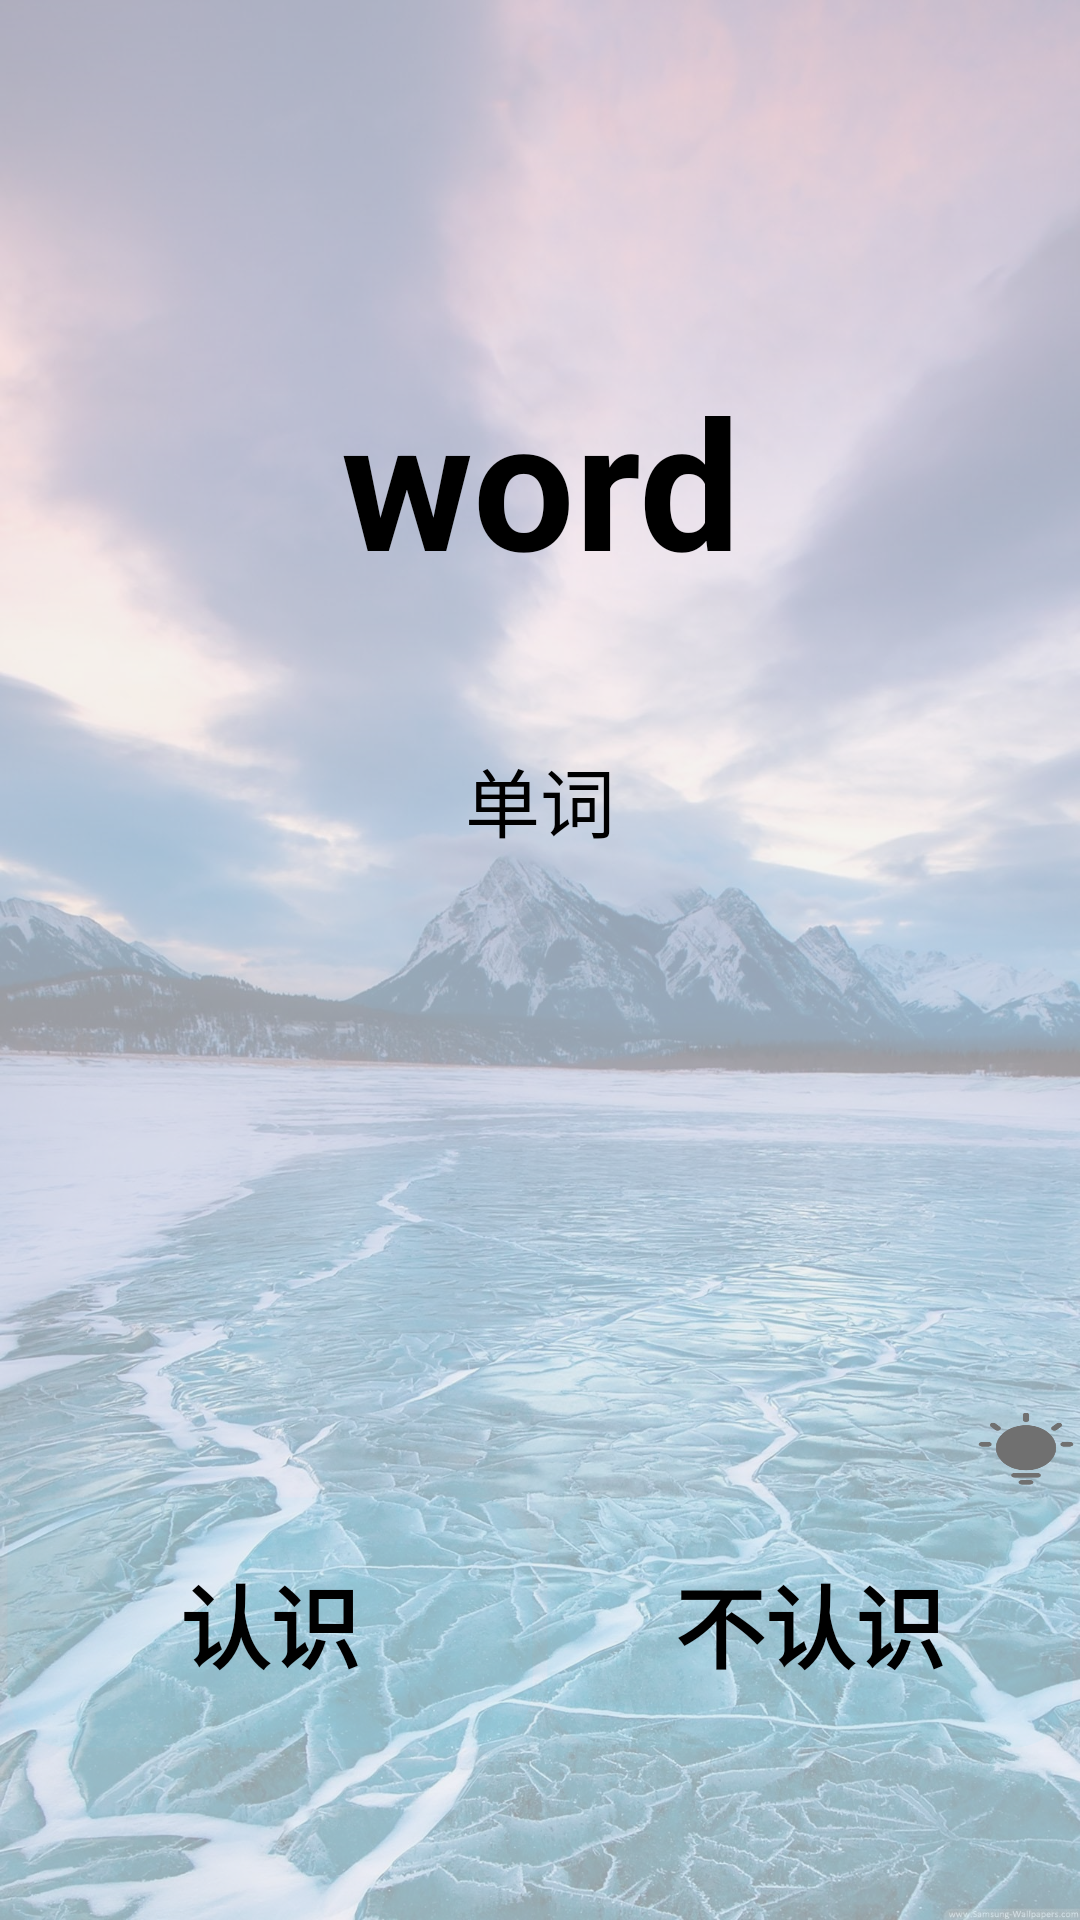

Where to tap for icons on this 1080px×1920px app screen, as [x,y]:
tips: [1026,1448]
